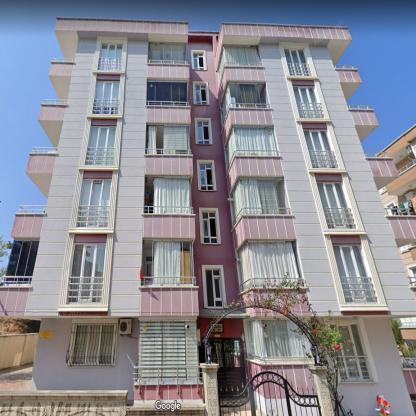door: (211, 338, 246, 394)
window: (138, 320, 198, 380), (238, 240, 301, 290), (332, 244, 379, 304), (232, 176, 290, 224), (225, 125, 279, 173), (246, 320, 308, 361), (66, 242, 106, 304), (142, 239, 193, 285), (218, 44, 262, 92), (221, 82, 269, 126), (338, 323, 374, 381), (316, 181, 358, 228), (71, 323, 114, 365), (77, 178, 112, 228), (304, 128, 340, 168), (84, 124, 116, 164), (6, 242, 39, 279), (146, 80, 187, 106), (293, 84, 324, 118), (163, 178, 190, 214), (282, 45, 312, 77), (93, 79, 119, 114), (147, 42, 187, 64), (163, 126, 189, 154), (98, 41, 123, 70), (205, 268, 223, 306), (201, 210, 218, 242), (200, 162, 214, 190), (197, 119, 212, 144), (195, 83, 207, 105), (193, 50, 205, 70)
